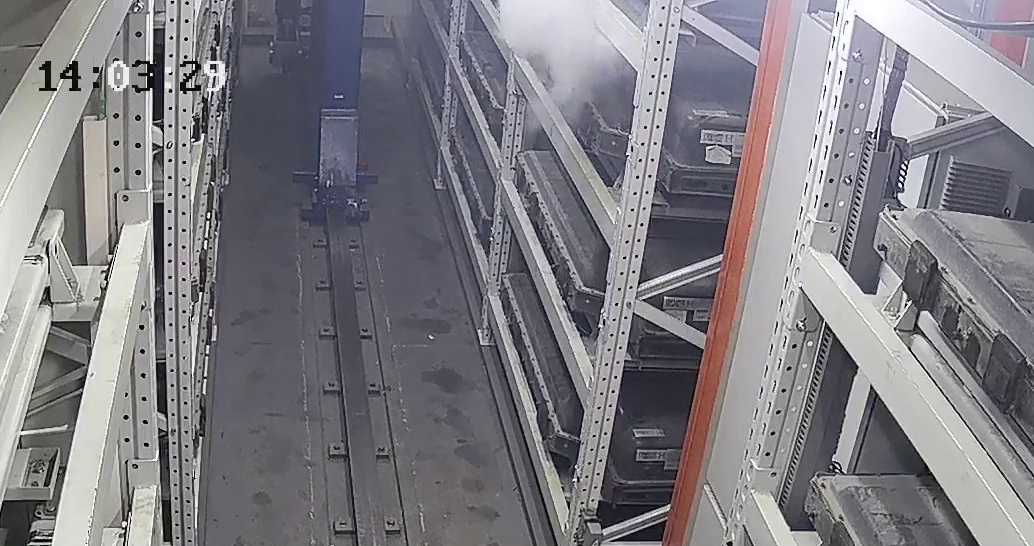smoke: (491, 4, 618, 93)
